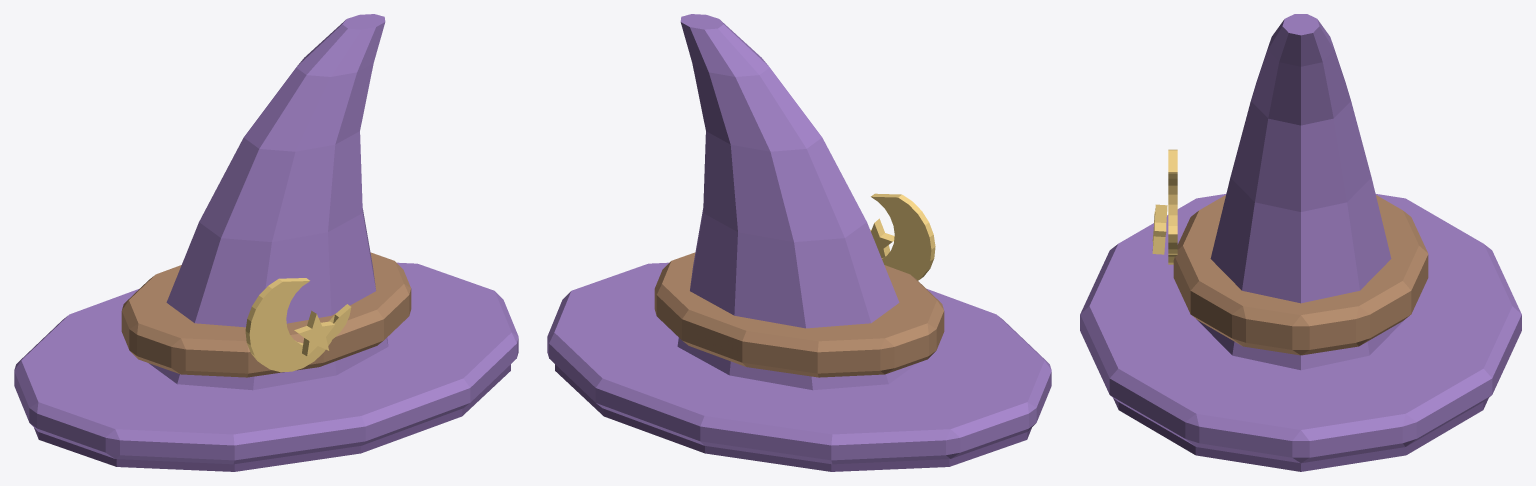
3 renders of one model, left to right at view 1: azimuth 30°, elevation 25°; view 2: azimuth 150°, elevation 25°; view 3: azimuth 270°, elevation 25°, orthographic. The views are drawn at different scales.
Parts seen in each view (by area): view 1: wide floppy low-poly brim, single-piece bent wizard hat cone, simple warm leather hat band, soft gold crescent charm on hat band, dark lower brim shadow, small simple gold star on hat band; view 2: wide floppy low-poly brim, single-piece bent wizard hat cone, simple warm leather hat band, dark lower brim shadow, soft gold crescent charm on hat band; view 3: wide floppy low-poly brim, single-piece bent wizard hat cone, simple warm leather hat band, dark lower brim shadow, soft gold crescent charm on hat band, small simple gold star on hat band.
Boxes of the visible parts, x1=… form: wide floppy low-poly brim: x1=14, y1=262, x2=518, y2=464; single-piece bent wizard hat cone: x1=149, y1=14, x2=388, y2=390; simple warm leather hat band: x1=121, y1=252, x2=411, y2=377; soft gold crescent charm on hat band: x1=245, y1=278, x2=351, y2=372; dark lower brim shadow: x1=34, y1=364, x2=510, y2=471; small simple gold star on hat band: x1=294, y1=310, x2=334, y2=355; wide floppy low-poly brim: x1=547, y1=262, x2=1051, y2=464; single-piece bent wizard hat cone: x1=677, y1=14, x2=916, y2=390; simple warm leather hat band: x1=654, y1=252, x2=944, y2=377; dark lower brim shadow: x1=555, y1=364, x2=1031, y2=471; soft gold crescent charm on hat band: x1=871, y1=193, x2=935, y2=280; wide floppy low-poly brim: x1=1080, y1=194, x2=1521, y2=463; single-piece bent wizard hat cone: x1=1196, y1=14, x2=1405, y2=370; simple warm leather hat band: x1=1173, y1=195, x2=1428, y2=355; dark lower brim shadow: x1=1113, y1=398, x2=1488, y2=471; soft gold crescent charm on hat band: x1=1168, y1=149, x2=1177, y2=264; small simple gold star on hat band: x1=1152, y1=204, x2=1167, y2=254.
Size of the model in its own units: 2.29 by 1.59 by 1.69.
